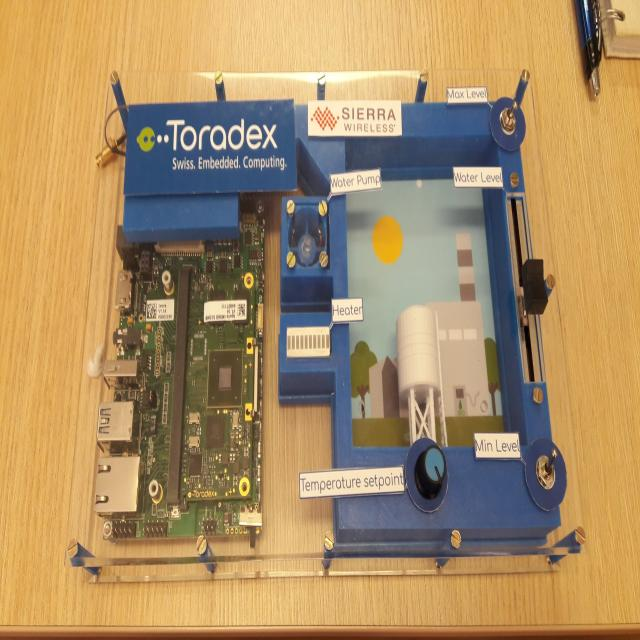som: (181, 257, 256, 514)
